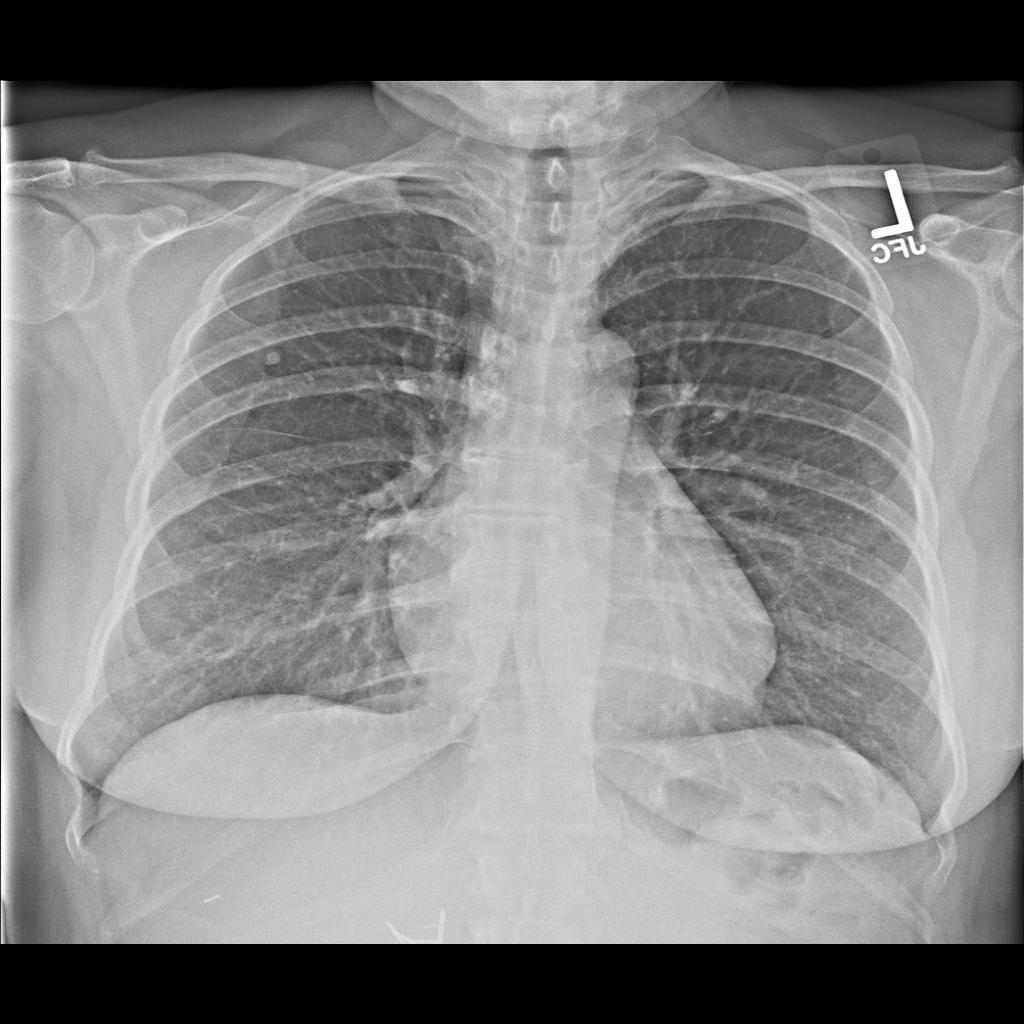Nodule: (262, 349, 286, 368)
